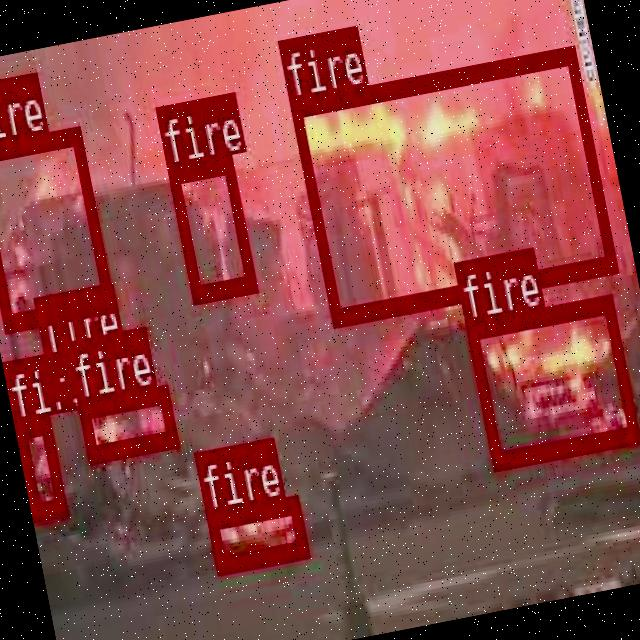fire: (287, 43, 617, 324), (465, 295, 637, 466), (0, 125, 113, 327), (166, 154, 256, 301), (205, 493, 308, 572), (76, 384, 176, 459), (13, 412, 66, 520), (42, 349, 80, 398)
